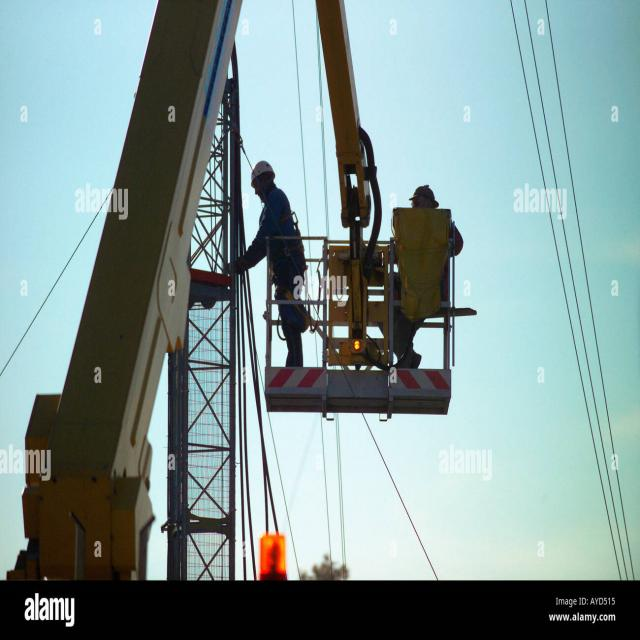Reflective-Jacket: (255, 190, 309, 288)
Safety-Helmet: (408, 179, 441, 204), (248, 156, 278, 182)
